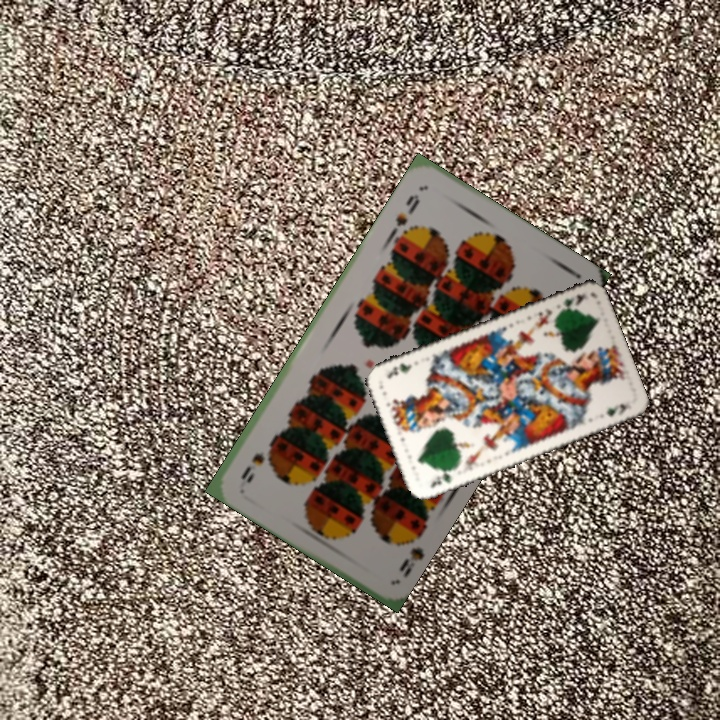GK: (554, 290, 588, 315), (426, 465, 456, 491)
S9: (395, 526, 426, 581), (391, 189, 423, 229)
